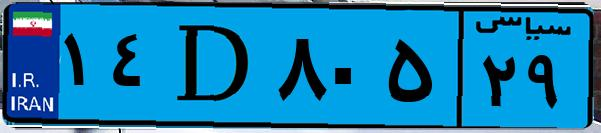0: (330, 28, 385, 110)
1: (57, 26, 110, 100)
2: (475, 38, 525, 113)
4: (110, 28, 158, 98)
5: (385, 28, 445, 110)
8: (270, 28, 330, 110)
9: (525, 38, 570, 115)
D: (158, 12, 270, 120)
